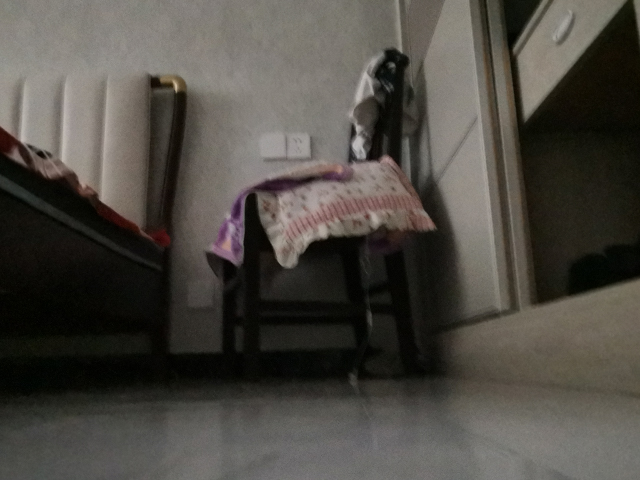bed: (1, 72, 189, 387)
cabinet: (394, 1, 640, 395)
stool: (217, 45, 423, 383)
